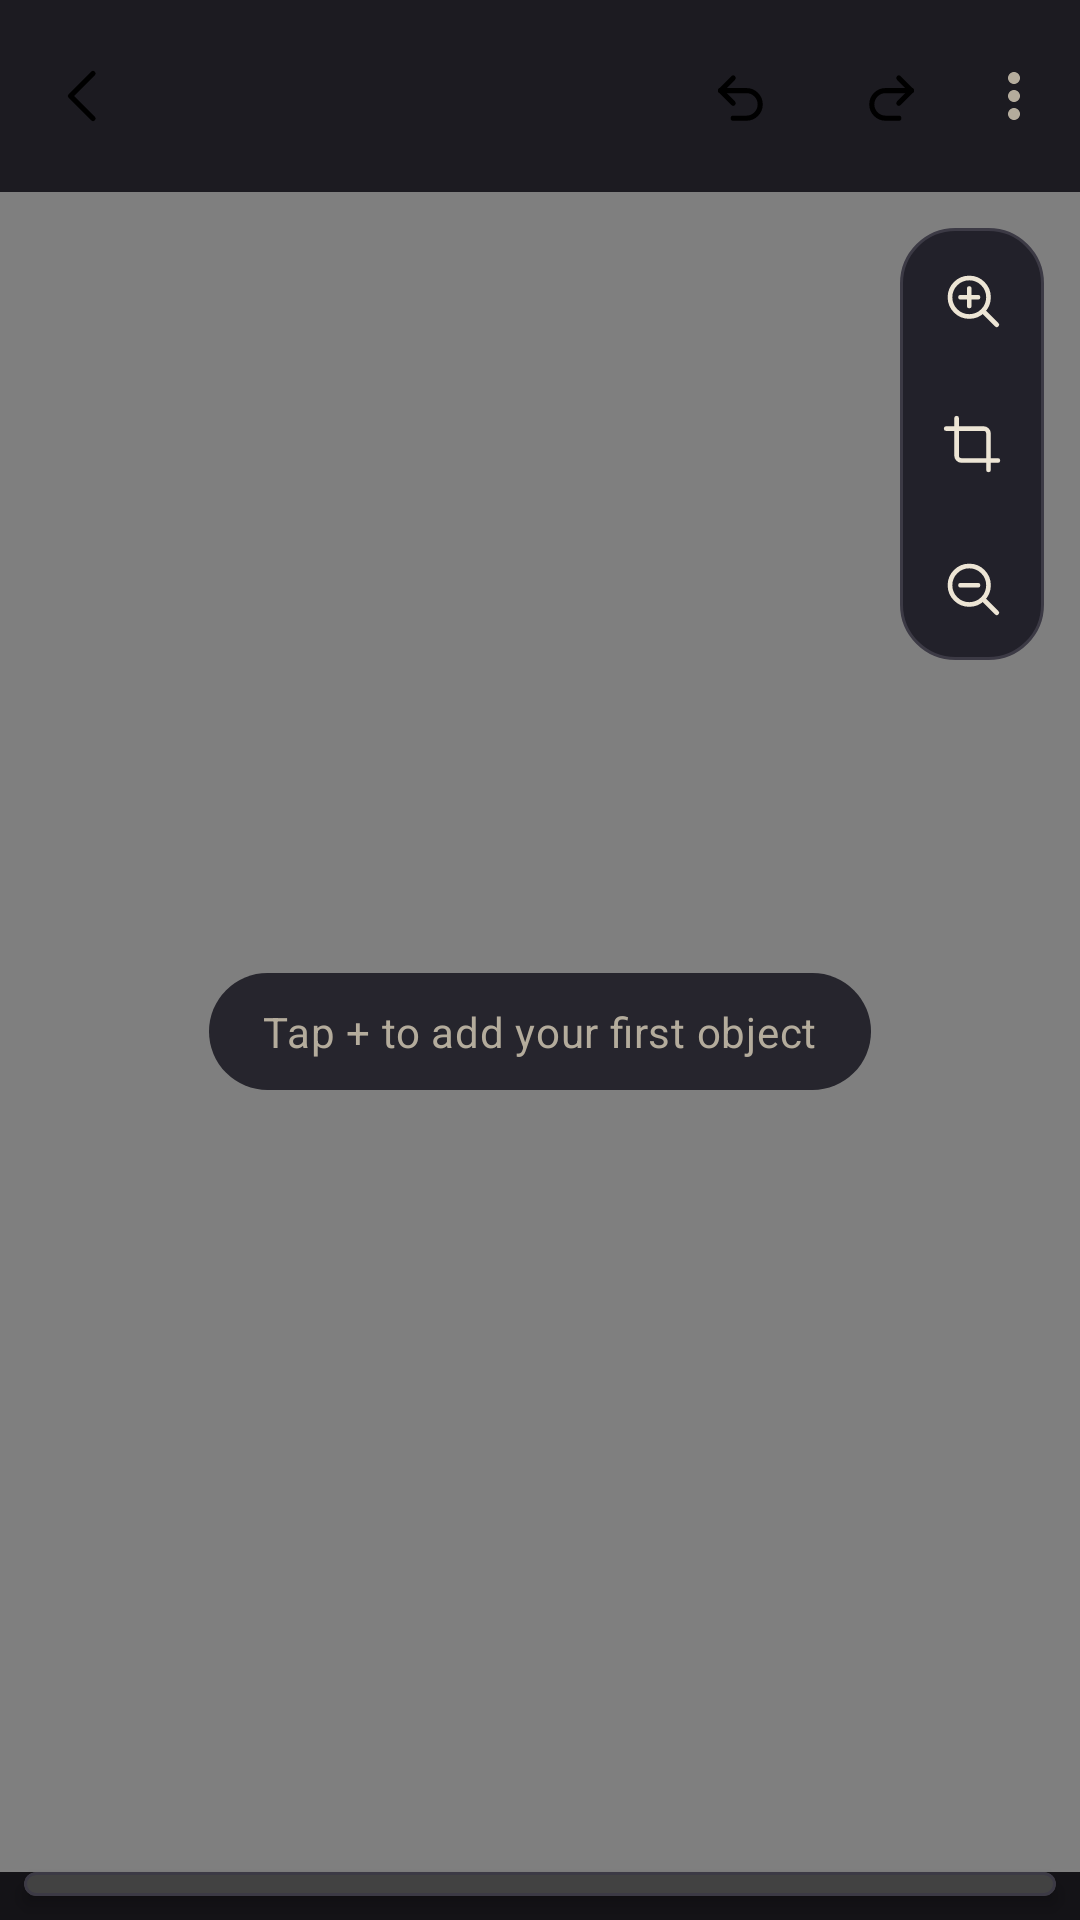

Where to tap for icons on this 1080w x 1920h app screen, as (x=x, y=y):
Zoom in: (x=972, y=300)
Zoom out: (x=972, y=588)
